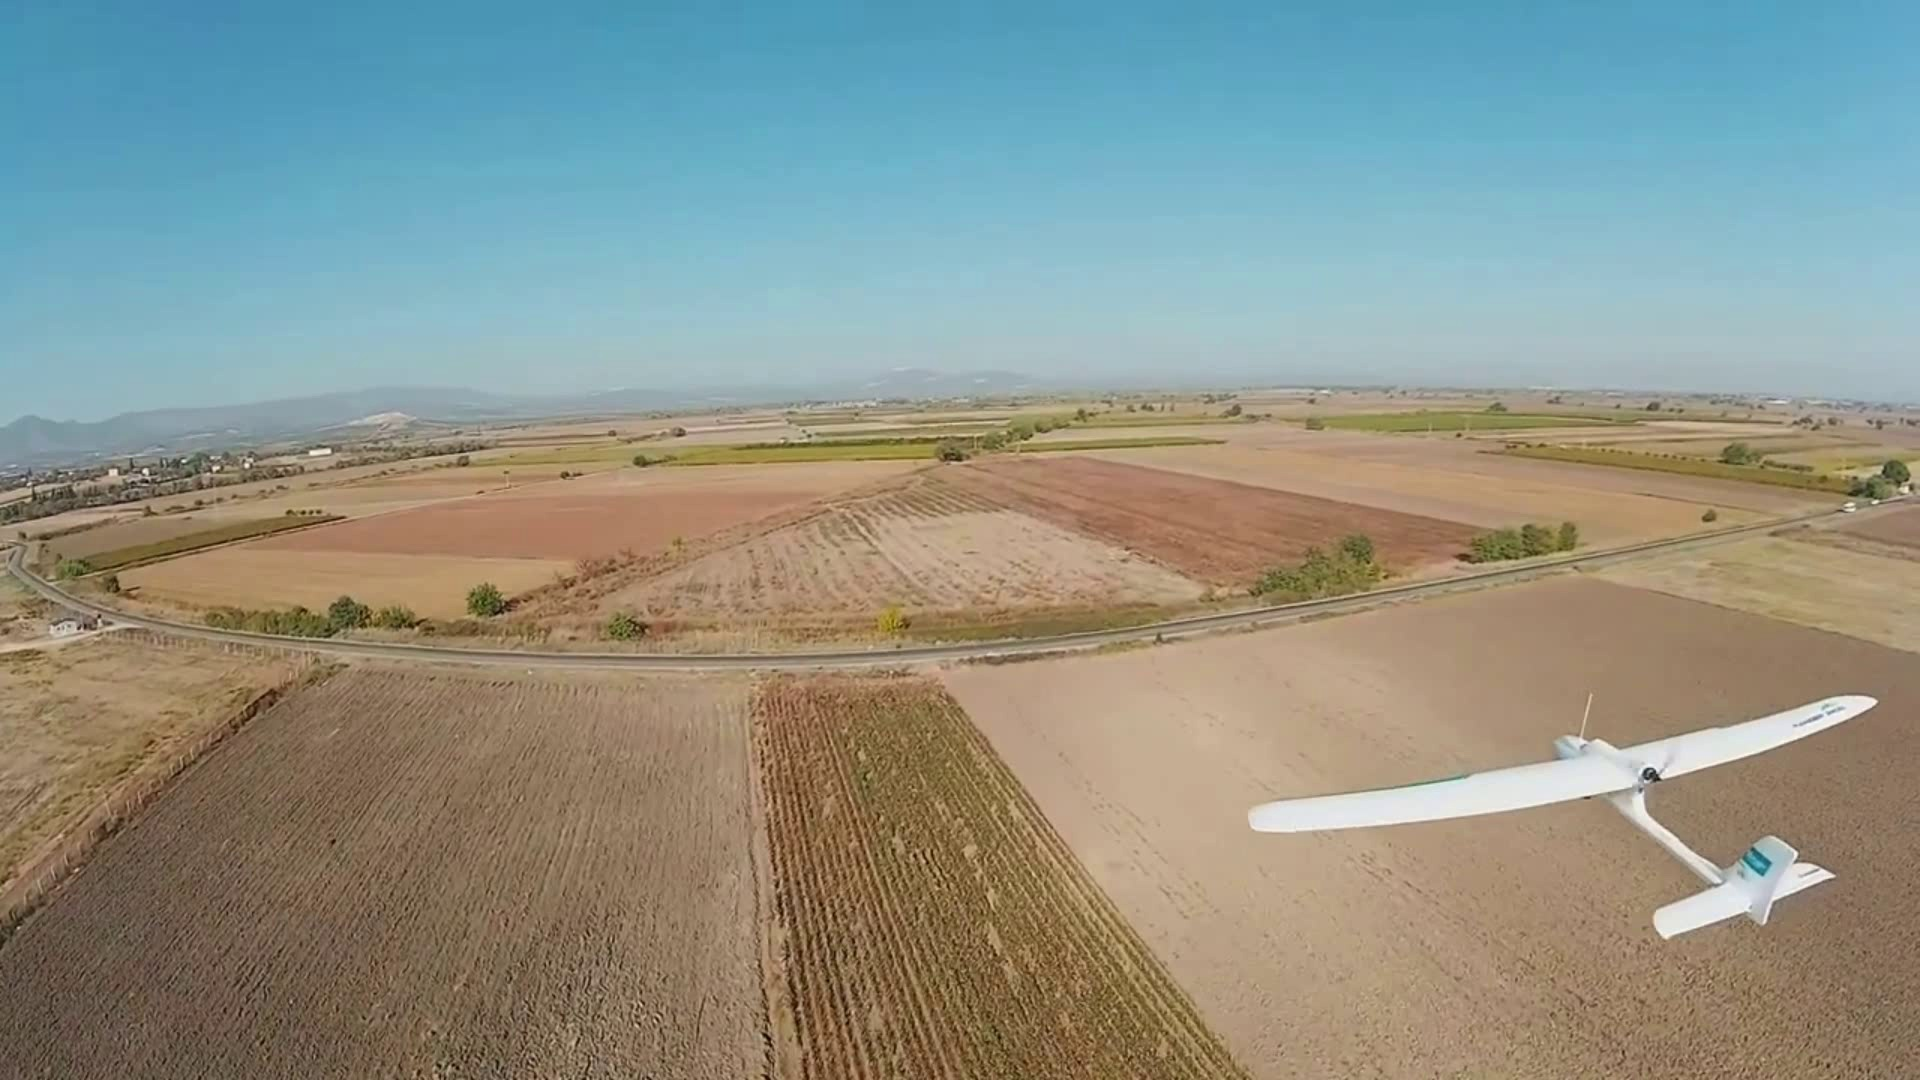airplane: (1244, 686, 1878, 939)
